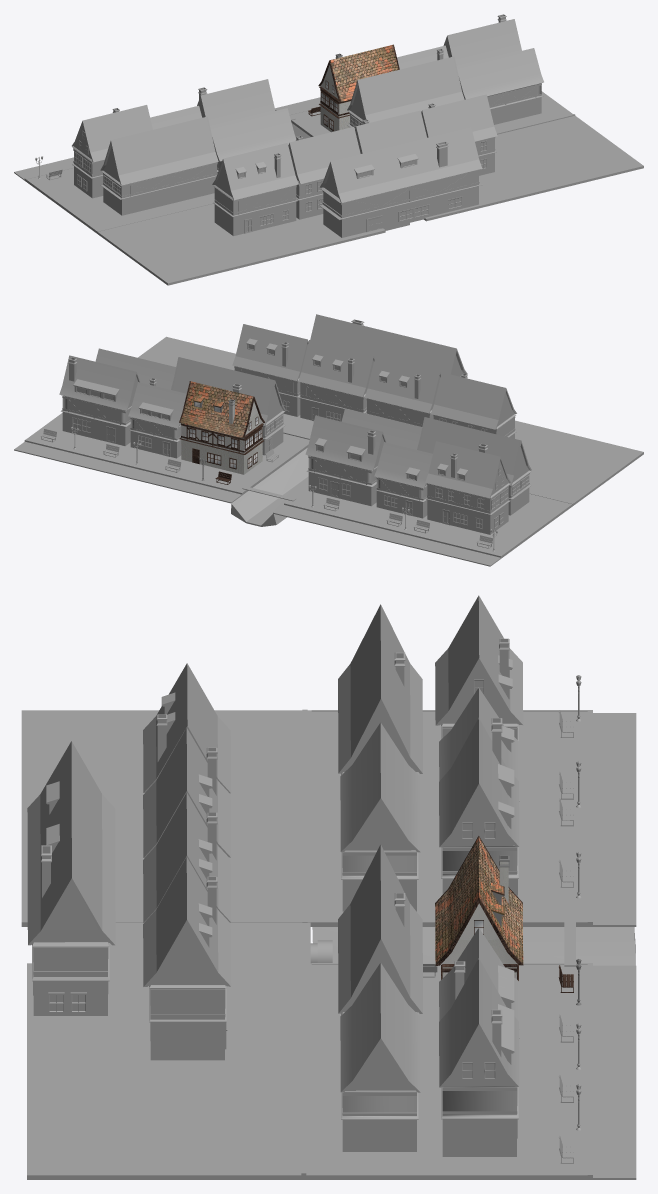
The model's file is Prototy_Chapter1.fbx.
The picture shows the model from 3 angles, top to bottom: view 1: azimuth 30°, elevation 25°; view 2: azimuth 150°, elevation 25°; view 3: azimuth 270°, elevation 25°; orthographic projection. The views are drawn at different scales.
Parts seen in each view (by area): view 1: Floor, pasted__pasted__group57_pasted__pasted__group4_pasted__paste (×3), pasted__pasted__pasted__group57_pasted__pasted__group4_paste, group31_pasted__group25_pasted__pasted__group19_pasted__past, pasted__pasted__pCube5, group27_pasted__group25_pasted__pasted__group19_pasted__past, pasted__pasted__pCube4, pasted__pCube4, pasted__pasted__pasted__pasted__pCylinder3, pasted__group26_pasted__pasted__group13_pasted__pasted__past, group26_pasted__group23_pasted__pasted__group21_pasted__past, pasted__group57_pasted__pasted__group4_pasted__pasted__paste (+2 smaller); view 2: Floor, pasted__pasted__group57_pasted__pasted__group4_pasted__paste (×3), pasted__pasted__pCube4, pasted__pCube4, pasted__group26_pasted__pasted__group13_pasted__pasted__past, group26_pasted__group23_pasted__pasted__group21_pasted__past, pasted__group57_pasted__pasted__group4_pasted__pasted__paste, pasted__pasted__pasted__group57_pasted__pasted__group4_paste, group31_pasted__group25_pasted__pasted__group19_pasted__past, pasted__pasted__pCube5, group20_pasted__pCube5, group31_pasted__group19_pasted__pasted__pCylinder3 (+2 smaller); view 3: Floor, pasted__pasted__group57_pasted__pasted__group4_pasted__paste (×3), pasted__pasted__pasted__group57_pasted__pasted__group4_paste, group26_pasted__group23_pasted__pasted__group21_pasted__past, group27_pasted__group25_pasted__pasted__group19_pasted__past, pasted__pasted__pasted__pasted__pCylinder3, pasted__group26_pasted__pasted__group13_pasted__pasted__past, group31_pasted__group25_pasted__pasted__group19_pasted__past, pasted__pasted__pCube5, pasted__pCube4, pasted__pasted__pCube4, pasted__group57_pasted__pasted__group4_pasted__pasted__paste (+2 smaller).
Part boxes in pixels (left/top/right/bottom): Floor: left=14, top=91, right=643, bottom=285; pasted__pasted__group57_pasted__pasted__group4_pasted__paste (×3): left=212, top=94, right=497, bottom=236; pasted__pasted__pasted__group57_pasted__pasted__group4_paste: left=320, top=127, right=482, bottom=237; group31_pasted__group25_pasted__pasted__group19_pasted__past: left=100, top=116, right=218, bottom=215; pasted__pasted__pCube5: left=347, top=56, right=464, bottom=128; group27_pasted__group25_pasted__pasted__group19_pasted__past: left=457, top=48, right=543, bottom=124; pasted__pasted__pCube4: left=72, top=105, right=152, bottom=198; pasted__pCube4: left=318, top=44, right=399, bottom=132; pasted__pasted__pasted__pasted__pCylinder3: left=210, top=108, right=296, bottom=172; pasted__group26_pasted__pasted__group13_pasted__pasted__past: left=197, top=79, right=275, bottom=126; group26_pasted__group23_pasted__pasted__group21_pasted__past: left=443, top=14, right=521, bottom=66; pasted__group57_pasted__pasted__group4_pasted__pasted__paste: left=355, top=110, right=426, bottom=153; Floor: left=14, top=336, right=643, bottom=566; pasted__pasted__group57_pasted__pasted__group4_pasted__paste (×3): left=232, top=324, right=516, bottom=438; pasted__pasted__pCube4: left=425, top=441, right=511, bottom=534; pasted__pCube4: left=179, top=381, right=264, bottom=474; pasted__group26_pasted__pasted__group13_pasted__pasted__past: left=305, top=415, right=386, bottom=506; group26_pasted__group23_pasted__pasted__group21_pasted__past: left=59, top=355, right=139, bottom=445; pasted__group57_pasted__pasted__group4_pasted__pasted__paste: left=298, top=340, right=374, bottom=421; pasted__pasted__pasted__group57_pasted__pasted__group4_paste: left=310, top=314, right=467, bottom=376; group31_pasted__group25_pasted__pasted__group19_pasted__past: left=417, top=417, right=531, bottom=515; pasted__pasted__pCube5: left=171, top=357, right=285, bottom=455; group20_pasted__pCube5: left=128, top=378, right=186, bottom=458; group31_pasted__group19_pasted__pasted__pCylinder3: left=374, top=442, right=432, bottom=518; Floor: left=21, top=709, right=636, bottom=1179; pasted__pasted__group57_pasted__pasted__group4_pasted__paste (×3): left=143, top=663, right=231, bottom=1060; pasted__pasted__pasted__group57_pasted__pasted__group4_paste: left=27, top=741, right=115, bottom=1015; group26_pasted__group23_pasted__pasted__group21_pasted__past: left=439, top=958, right=519, bottom=1156; group27_pasted__group25_pasted__pasted__group19_pasted__past: left=340, top=962, right=420, bottom=1151; pasted__pasted__pasted__pasted__pCylinder3: left=340, top=722, right=420, bottom=911; pasted__group26_pasted__pasted__group13_pasted__pasted__past: left=439, top=718, right=519, bottom=896; group31_pasted__group25_pasted__pasted__group19_pasted__past: left=338, top=604, right=422, bottom=775; pasted__pasted__pCube5: left=338, top=844, right=422, bottom=1015; pasted__pCube4: left=435, top=836, right=523, bottom=980; pasted__pasted__pCube4: left=435, top=595, right=523, bottom=740; pasted__group57_pasted__pasted__group4_pasted__pasted__paste: left=143, top=792, right=231, bottom=922.
Size of the model in its own units: 162 by 29.74 by 90.34.
